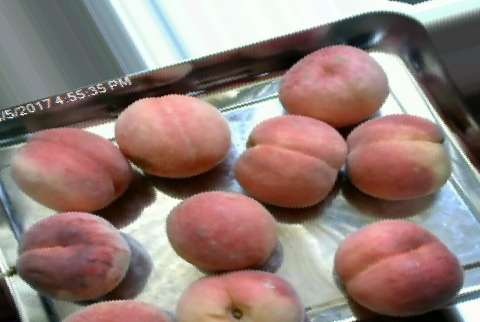Peach: (335, 219, 461, 316), (16, 210, 133, 302), (235, 113, 345, 207), (12, 129, 129, 212), (116, 94, 231, 178), (342, 113, 449, 201), (165, 191, 279, 272), (275, 45, 387, 126), (174, 270, 299, 320)
